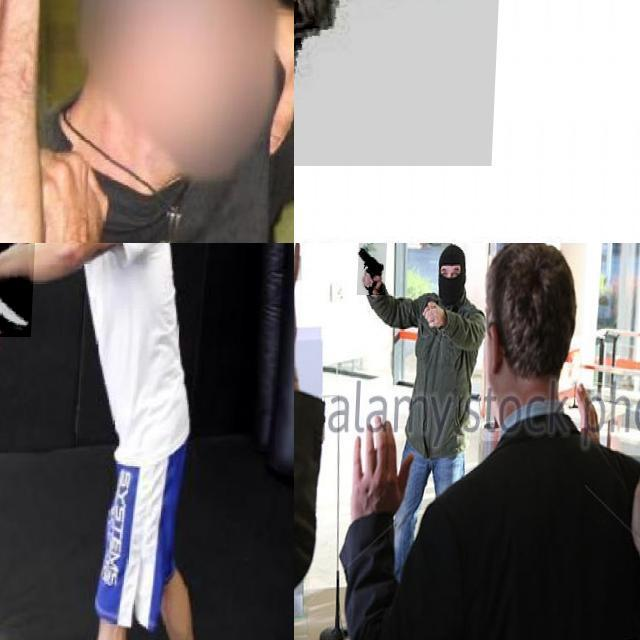-: (0, 0, 234, 81), (0, 243, 49, 337)
gun-knife-thesis - v11 Yolov5 augmented: (294, 0, 504, 166), (358, 243, 388, 294)
